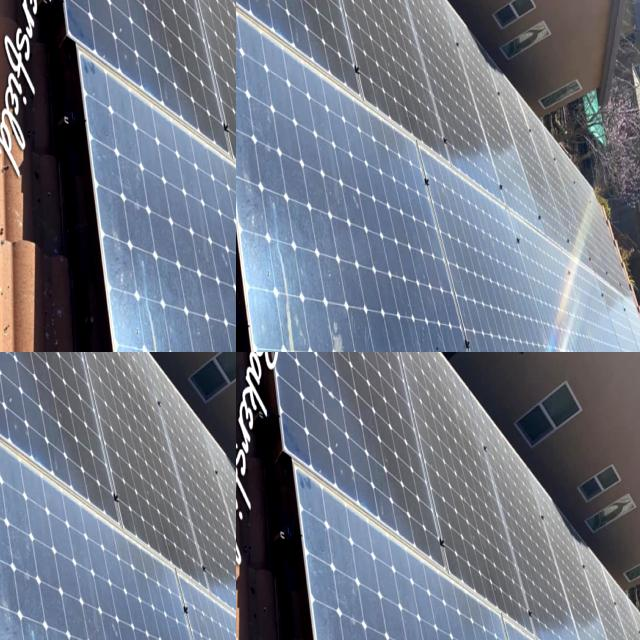bird: (273, 0, 298, 16), (236, 0, 246, 18)
crack: (0, 464, 115, 584), (57, 408, 149, 483), (92, 519, 174, 598), (21, 399, 89, 462), (150, 432, 210, 497), (0, 493, 48, 555), (0, 544, 32, 611), (0, 609, 24, 640)
dust: (306, 370, 468, 552), (477, 519, 556, 640), (331, 569, 435, 640)
shadow: (319, 0, 345, 16)
